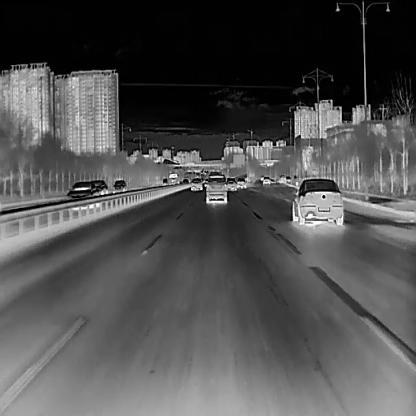car: (291, 176, 341, 224), (205, 171, 226, 203), (62, 180, 96, 199), (112, 180, 127, 192), (190, 176, 202, 190), (226, 177, 236, 190), (236, 178, 246, 188), (261, 174, 270, 184)
truck: (168, 172, 178, 186)
